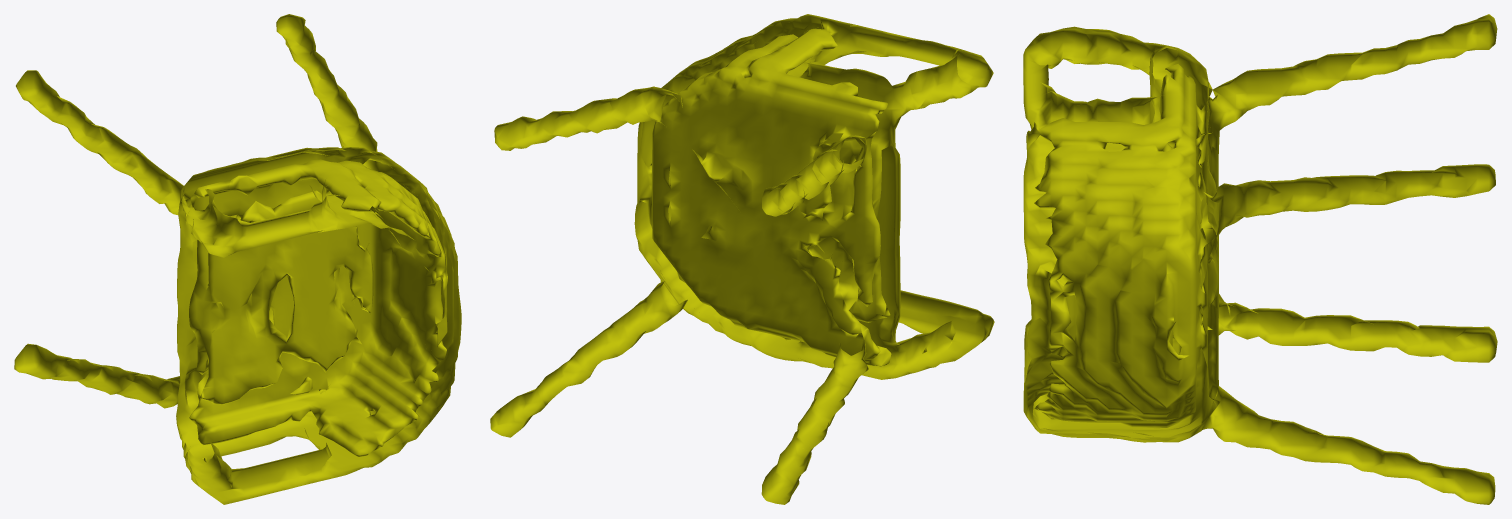
The picture shows the model from 3 angles, left to right: view 1: azimuth 30°, elevation 25°; view 2: azimuth 150°, elevation 25°; view 3: azimuth 270°, elevation 25°; orthographic projection. The views are drawn at different scales.
Visible parts, largest first — view 1: world; view 2: world; view 3: world.
Part boxes in pixels (box(x1,y1,x2,y2)): world: box(14, 14, 461, 504); world: box(490, 14, 994, 504); world: box(1023, 14, 1497, 504).
Bounding box in the file's own units: 32.93 × 32.99 × 41.19.
